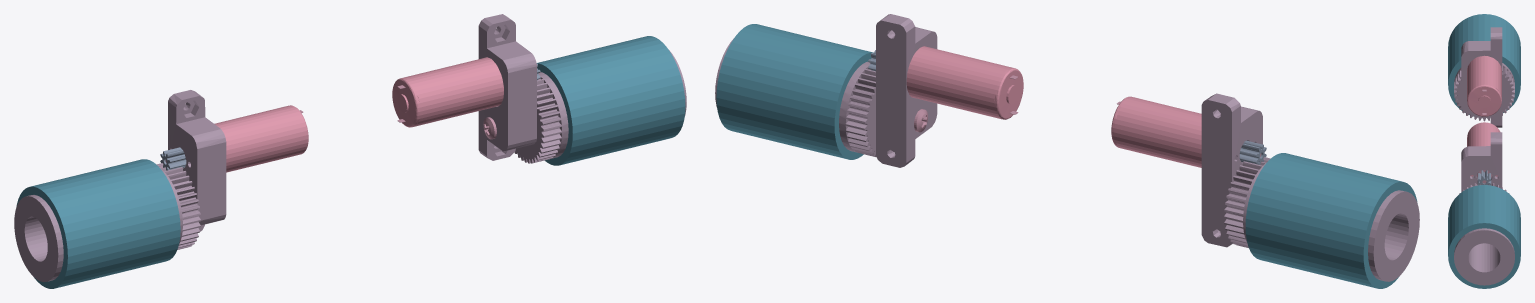
The model's file is drive.glb.
3 renders of one model, left to right at view 1: azimuth 30°, elevation 25°; view 2: azimuth 150°, elevation 25°; view 3: azimuth 270°, elevation 25°, orthographic. The views are drawn at different scales.
Visible parts, largest first — view 1: Part__Feature019__Tire_N60110_Short7_L, Part__Feature041__Tire_N60110_Short7_R, Part__Feature022__n60lock_R, Part__Feature__n60lock_L, Hub_L__Wheel_Short7_L, Part__Feature023__Motor001, Part__Feature001__Motor, Hub_R__Wheel_Short7_R, Part__Feature026__RearCover001, Part__Feature003__Pinion; view 2: Part__Feature019__Tire_N60110_Short7_L, Part__Feature041__Tire_N60110_Short7_R, Part__Feature022__n60lock_R, Part__Feature__n60lock_L, Hub_L__Wheel_Short7_L, Part__Feature023__Motor001, Part__Feature001__Motor, Hub_R__Wheel_Short7_R, Part__Feature026__RearCover001, Part__Feature003__Pinion; view 3: Part__Feature041__Tire_N60110_Short7_R, Hub_R__Wheel_Short7_R, Part__Feature019__Tire_N60110_Short7_L, Part__Feature022__n60lock_R, Part__Feature__n60lock_L, Part__Feature001__Motor, Part__Feature004__RearCover, Hub_L__Wheel_Short7_L, Part__Feature023__Motor001, Part__Feature025__Pinion001.
Part boxes in pixels (x1,y1,x2,y2): Part__Feature019__Tire_N60110_Short7_L: [16, 159, 180, 288]; Part__Feature041__Tire_N60110_Short7_R: [536, 36, 685, 165]; Part__Feature022__n60lock_R: [478, 14, 536, 160]; Part__Feature__n60lock_L: [168, 90, 226, 231]; Hub_L__Wheel_Short7_L: [14, 163, 200, 281]; Part__Feature023__Motor001: [403, 57, 503, 126]; Part__Feature001__Motor: [214, 106, 305, 172]; Hub_R__Wheel_Short7_R: [514, 50, 686, 163]; Part__Feature026__RearCover001: [392, 78, 420, 127]; Part__Feature003__Pinion: [160, 147, 186, 170]; Part__Feature019__Tire_N60110_Short7_L: [1245, 153, 1417, 288]; Part__Feature041__Tire_N60110_Short7_R: [716, 24, 873, 159]; Part__Feature022__n60lock_R: [876, 14, 937, 167]; Part__Feature__n60lock_L: [1201, 93, 1262, 247]; Hub_L__Wheel_Short7_L: [1224, 157, 1419, 281]; Part__Feature023__Motor001: [906, 46, 1012, 118]; Part__Feature001__Motor: [1114, 97, 1201, 167]; Hub_R__Wheel_Short7_R: [715, 38, 876, 157]; Part__Feature026__RearCover001: [994, 68, 1023, 119]; Part__Feature003__Pinion: [1239, 140, 1266, 164]; Part__Feature041__Tire_N60110_Short7_R: [1448, 185, 1520, 288]; Hub_R__Wheel_Short7_R: [1454, 183, 1514, 285]; Part__Feature019__Tire_N60110_Short7_L: [1448, 14, 1520, 116]; Part__Feature022__n60lock_R: [1461, 132, 1502, 192]; Part__Feature__n60lock_L: [1461, 27, 1502, 127]; Part__Feature001__Motor: [1467, 55, 1501, 98]; Part__Feature004__RearCover: [1467, 84, 1501, 116]; Hub_L__Wheel_Short7_L: [1454, 63, 1514, 121]; Part__Feature023__Motor001: [1467, 123, 1499, 177]; Part__Feature025__Pinion001: [1477, 170, 1491, 185].
Size of the model in its own units: 173 by 38.57 by 25.
